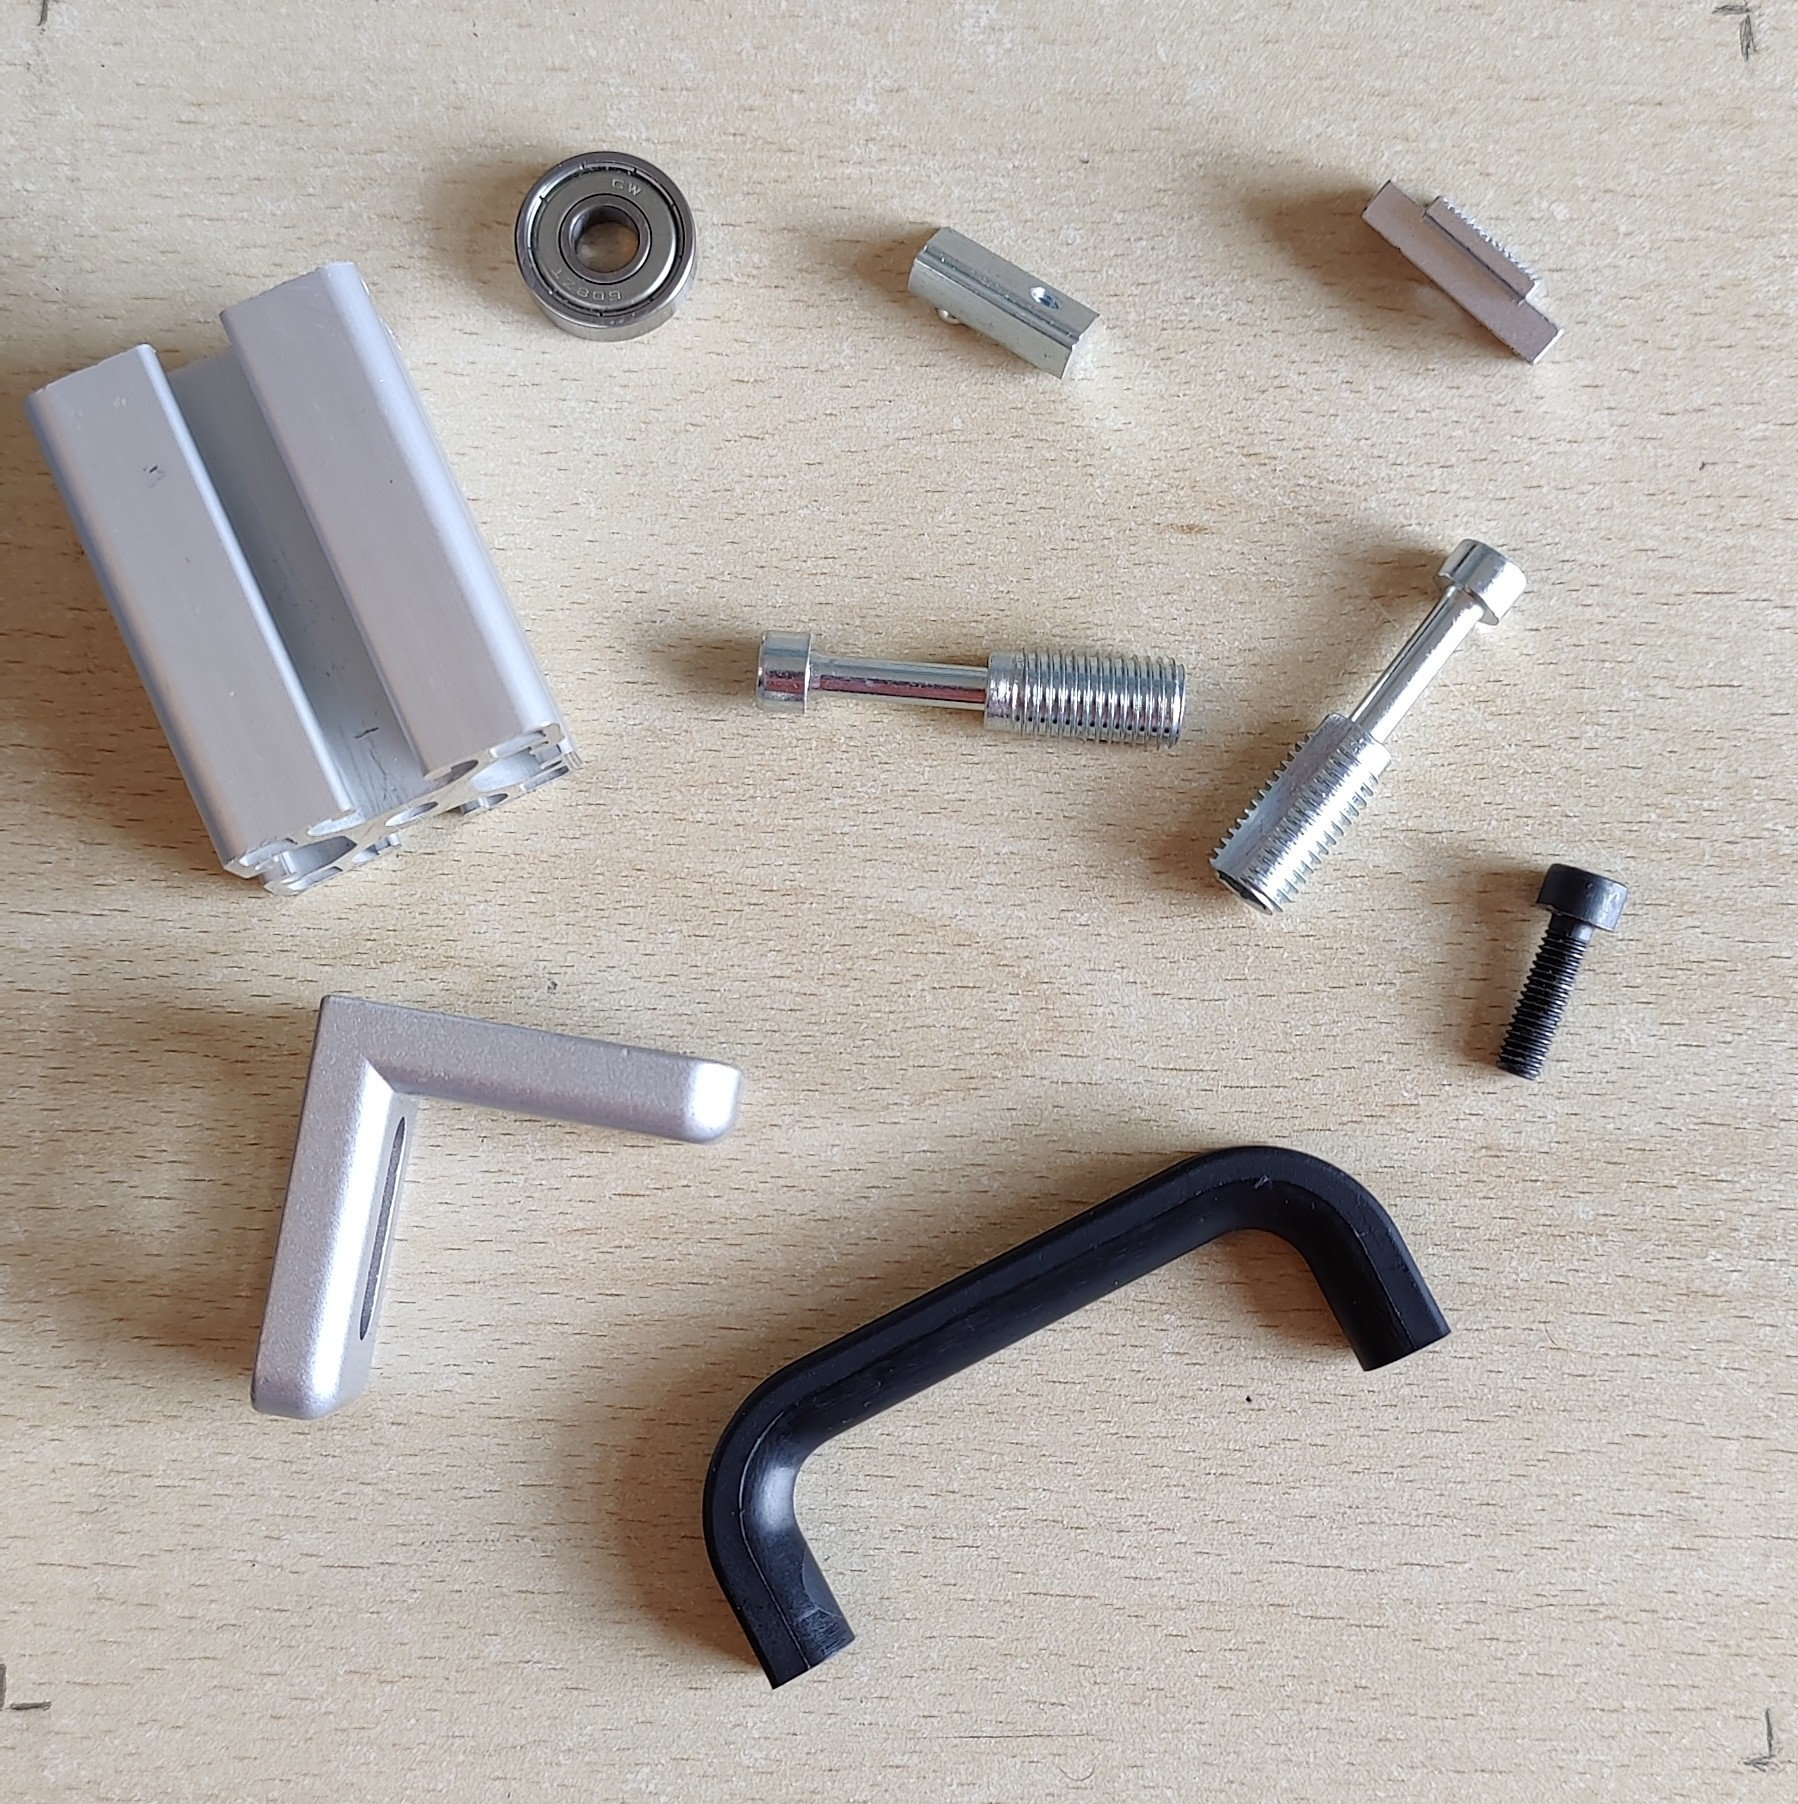Aluminium Extension: (16, 258, 588, 904)
Ball Bearing: (509, 148, 701, 346)
Multiwinkel: (249, 989, 744, 1424)
Pull Handle: (698, 1142, 1454, 1694)
Shoulder Socket Head Cap Screw: (1204, 533, 1530, 918), (751, 627, 1192, 752)
Socket Head Cap Screw: (1492, 862, 1630, 1088)
T Nut Square: (1353, 174, 1569, 370)
T Spring Nut: (901, 221, 1106, 387)
